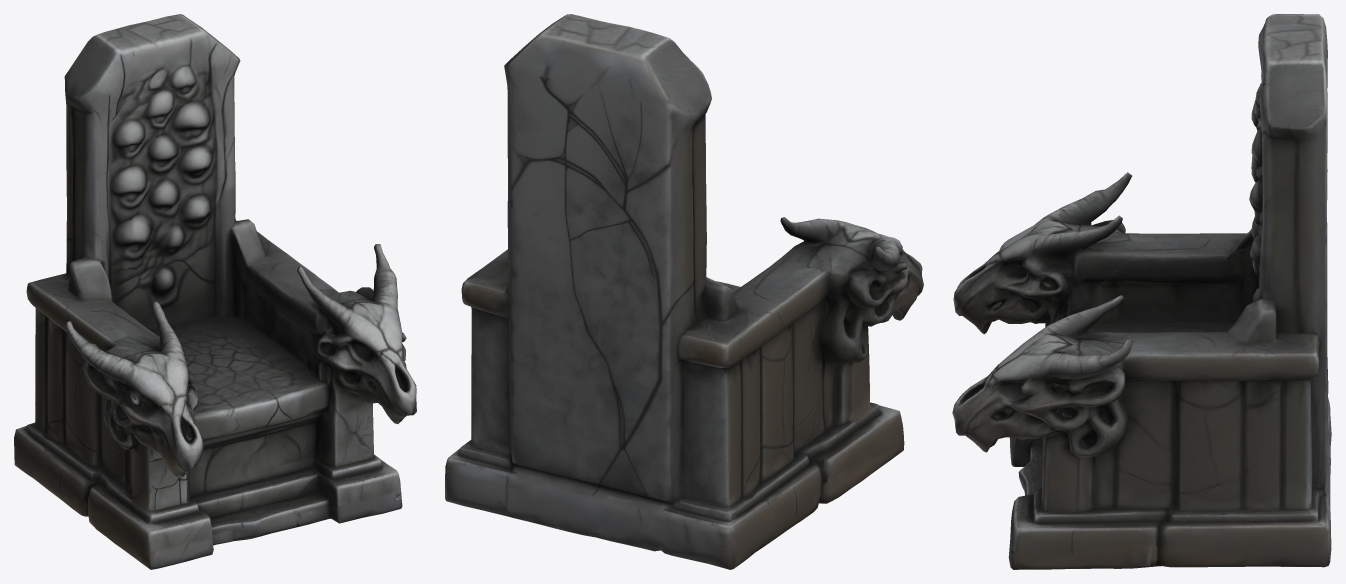
Rendered from throne_massive.glb.
The picture shows the model from 3 angles, left to right: view 1: azimuth 30°, elevation 25°; view 2: azimuth 150°, elevation 25°; view 3: azimuth 270°, elevation 25°; orthographic projection. The views are drawn at different scales.
Bounding box in the file's own units: 1.6 × 2 × 1.48.
Materials: 1 (1 with a texture image).
